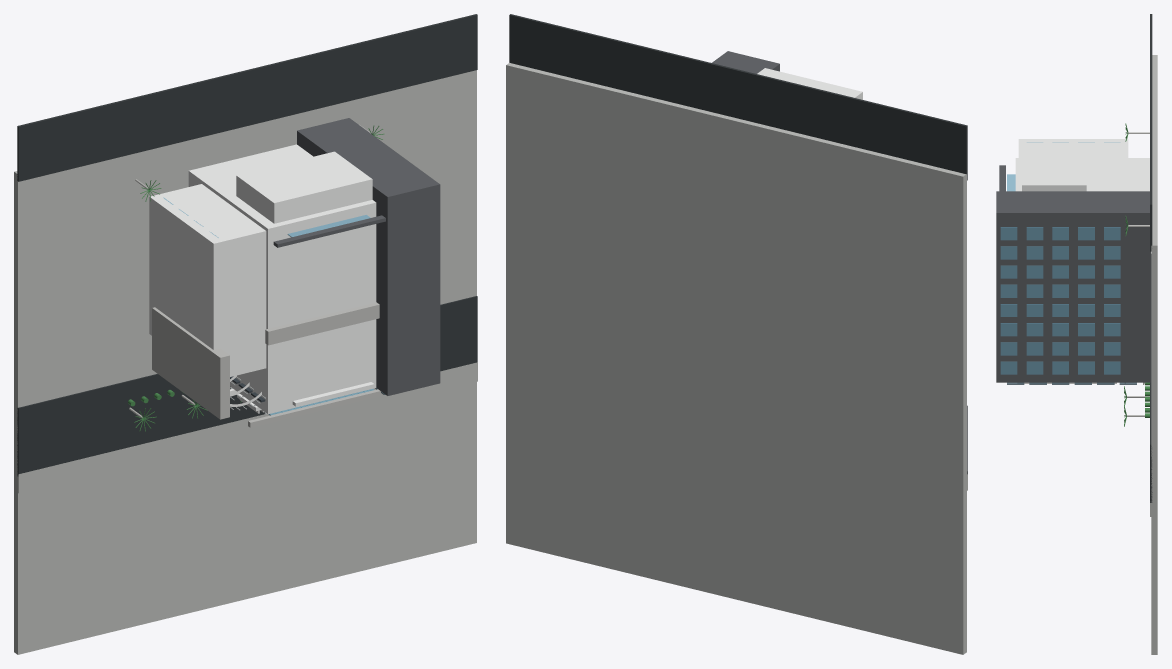
Rendered from architectural_3d_model.glb.
3 views of the same model, side by side, from view 1: azimuth 30°, elevation 25°; view 2: azimuth 150°, elevation 25°; view 3: azimuth 270°, elevation 25° (orthographic). The views are drawn at different scales.
Visible parts, largest first — view 1: Ground, RearRoad, CentralCore, RightTower, LeftRearWing, FrontRoad, FrontSidewalk, RearBridge, LeftSpine, BridgeBeam_21.5, FrontRoofBand, RoofParapet; view 2: Ground, RearRoad, RearBridge, RightTower; view 3: RightTower, Ground, RearBridge, CentralCore, LeftRearWing, RearRoad, FrontRoad.
Part boxes in pixels (x1,y1,x2,y2): Ground: [14, 70, 476, 654]; RearRoad: [17, 14, 477, 181]; CentralCore: [188, 144, 376, 414]; RightTower: [297, 118, 440, 395]; LeftRearWing: [149, 184, 266, 376]; FrontRoad: [17, 296, 477, 476]; FrontSidewalk: [17, 362, 477, 493]; RearBridge: [236, 151, 372, 223]; LeftSpine: [152, 307, 229, 419]; BridgeBeam_21.5: [265, 302, 379, 345]; FrontRoofBand: [248, 389, 385, 427]; RoofParapet: [273, 215, 385, 247]; Ground: [506, 63, 966, 654]; RearRoad: [509, 14, 967, 180]; RearBridge: [757, 68, 862, 99]; RightTower: [712, 51, 779, 73]; RightTower: [996, 191, 1150, 382]; Ground: [1151, 55, 1157, 654]; RearBridge: [1022, 144, 1086, 191]; CentralCore: [1015, 158, 1149, 191]; LeftRearWing: [1018, 139, 1128, 157]; RearRoad: [1150, 14, 1152, 251]; FrontRoad: [1150, 254, 1152, 502].
Bounding box in the file's own units: 70 × 77 × 25.05.
